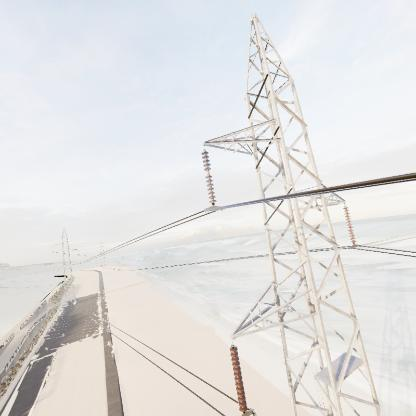insulator: (228, 344, 248, 413), (199, 148, 219, 207), (342, 207, 359, 246)
tower: (198, 10, 389, 416)
